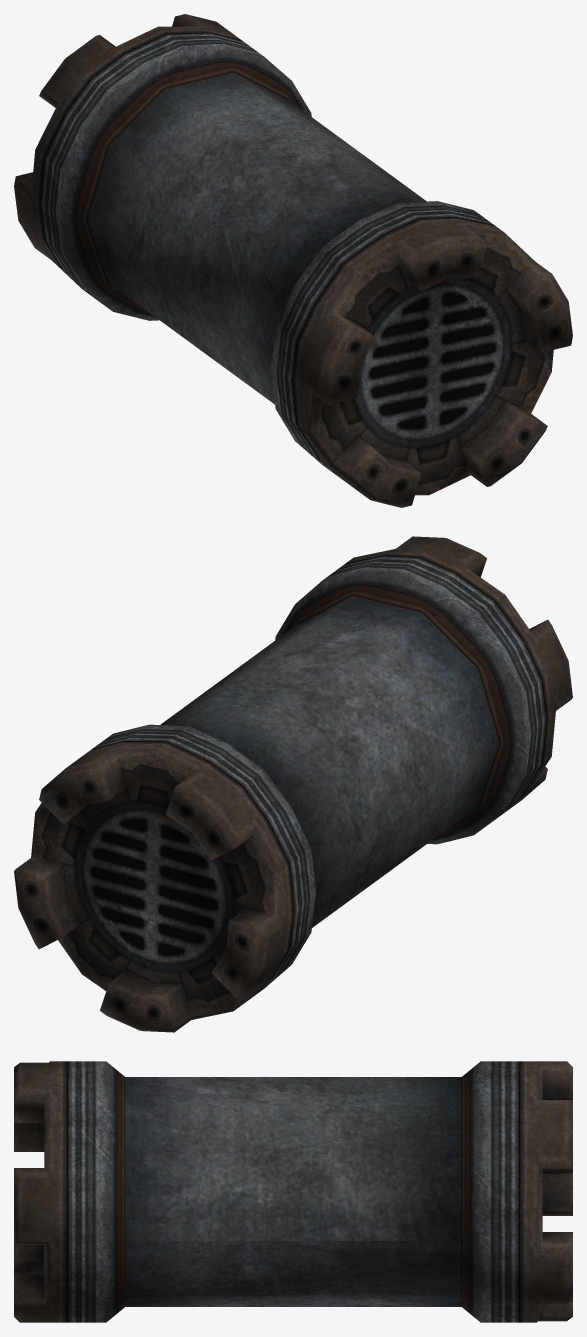
The model's file is tech_brown_short.dae.
3 renders of one model, top to bottom at view 1: azimuth 30°, elevation 25°; view 2: azimuth 150°, elevation 25°; view 3: azimuth 270°, elevation 25°, orthographic. The views are drawn at different scales.
Visible parts, largest first — view 1: polySurface783; view 2: polySurface783; view 3: polySurface783.
Boxes of the visible parts, x1,y1,x2,y2 form: polySurface783: (14, 14, 572, 507); polySurface783: (14, 536, 572, 1032); polySurface783: (14, 1061, 572, 1322).
Bounding box in the file's own units: 0.4984 × 0.5035 × 1.06.
1 material, 1 textured.
